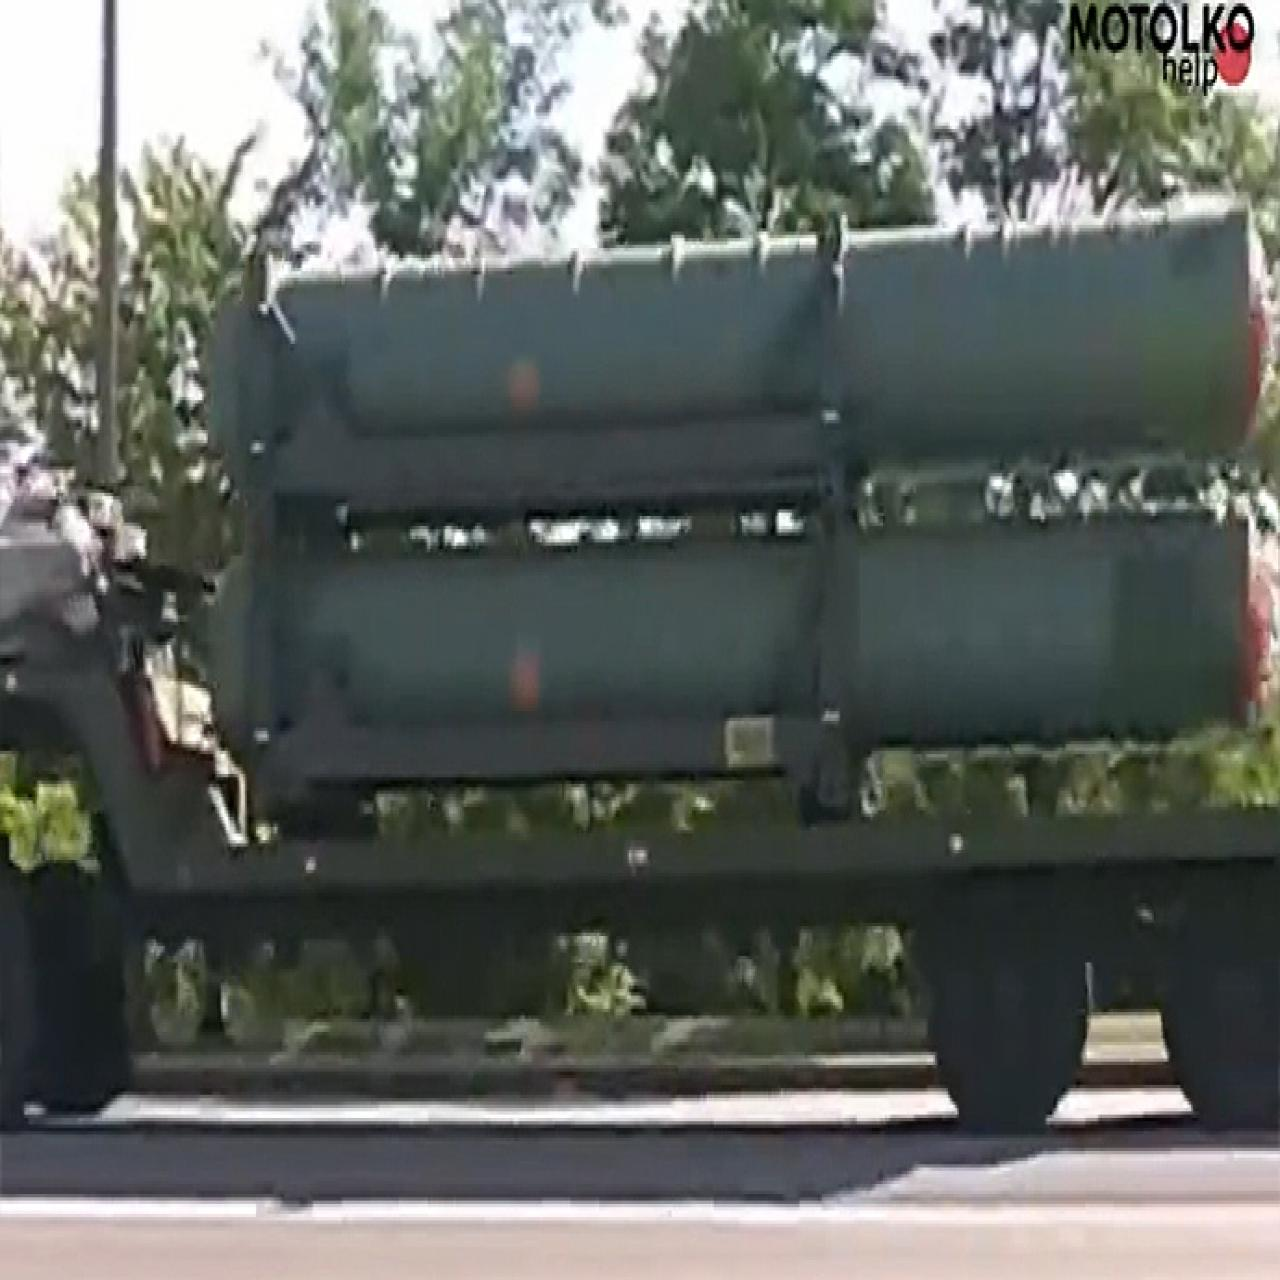MIL_Veh: (0, 207, 1280, 1129)
